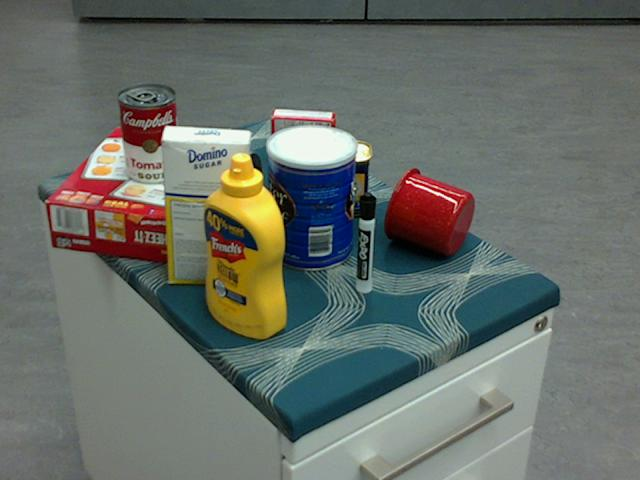cracker_box: (44, 127, 231, 266)
gelatin_box: (271, 109, 335, 165)
large_marker: (357, 192, 375, 293)
master_chef_can: (265, 124, 356, 271)
mug: (383, 166, 474, 255)
mustard_bottle: (204, 153, 285, 339)
potted_meat_can: (289, 139, 371, 216)
sugar_box: (159, 126, 249, 286)
tomato_soup_can: (116, 84, 179, 184)
tuna_fish_can: (206, 144, 258, 215)
